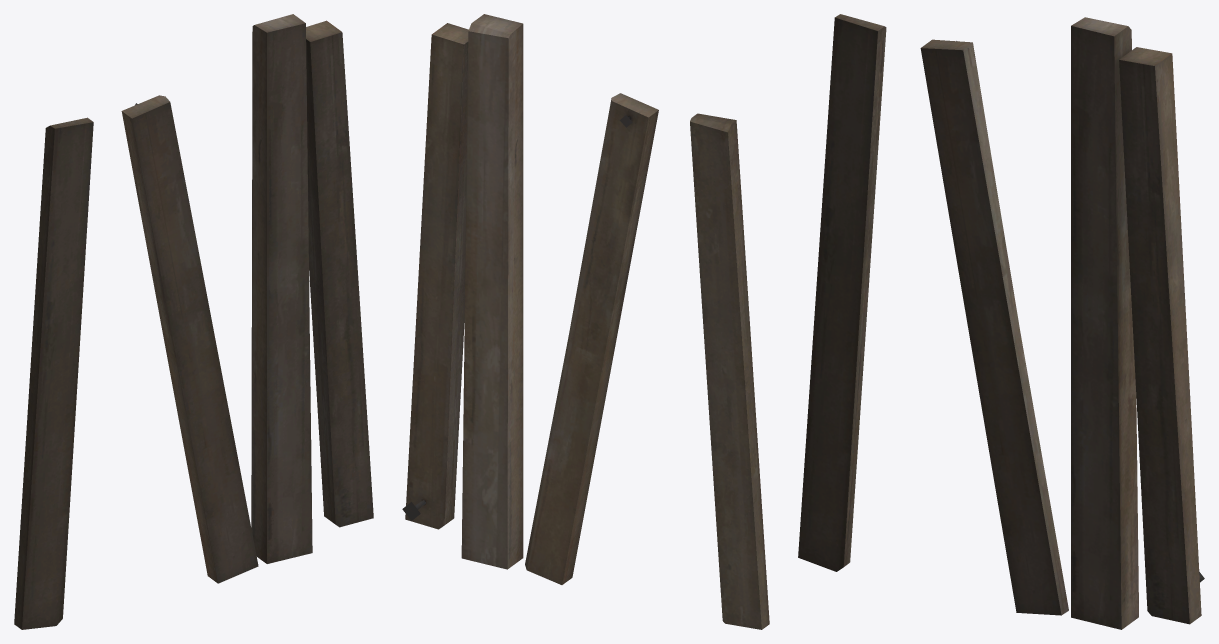
Rendered from props_forest_wood_patch2.glb.
3 renders of one model, left to right at view 1: azimuth 30°, elevation 25°; view 2: azimuth 150°, elevation 25°; view 3: azimuth 330°, elevation 25°, orthographic. The views are drawn at different scales.
Visible parts, largest first — view 1: models/props_forest/wood_patch2; view 2: models/props_forest/wood_patch2; view 3: models/props_forest/wood_patch2.
Boxes of the visible parts, bbox=[...] form: models/props_forest/wood_patch2: bbox=[14, 14, 373, 629]; models/props_forest/wood_patch2: bbox=[402, 14, 769, 629]; models/props_forest/wood_patch2: bbox=[798, 14, 1204, 629].
Bounding box in the file's own units: 65.52 × 96.44 × 7.44.
1 material, 1 textured.
